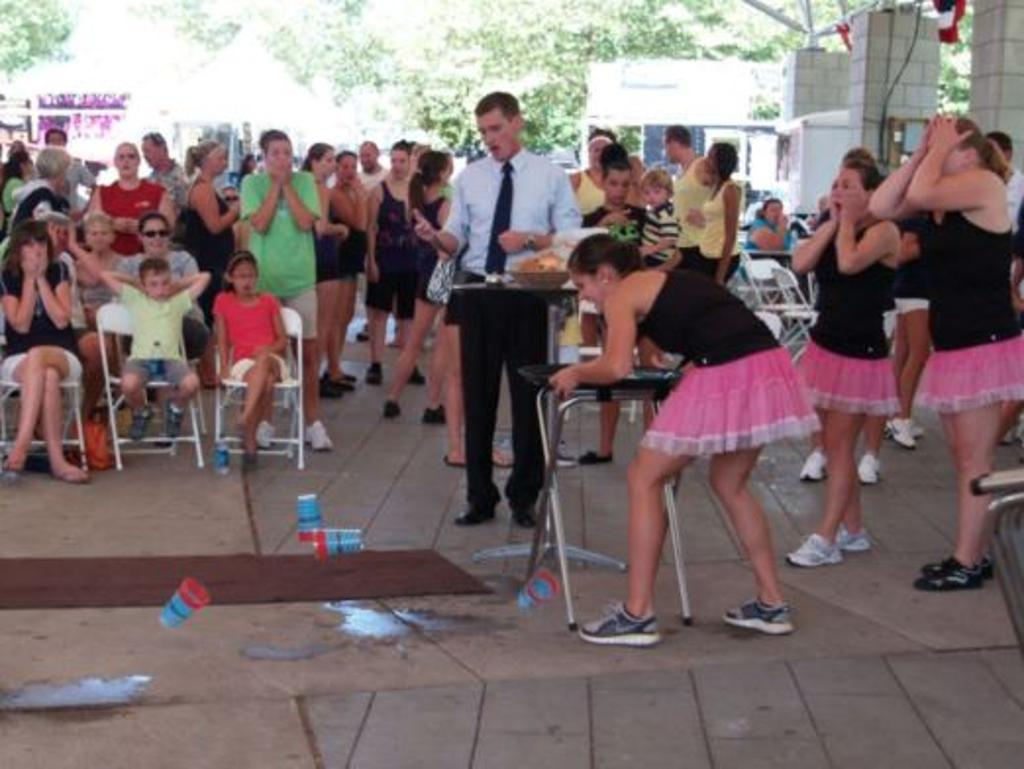face: (830, 177, 867, 222), (928, 137, 962, 183), (571, 268, 604, 315), (478, 115, 511, 161), (22, 241, 49, 272), (142, 225, 167, 254), (606, 174, 630, 202), (145, 275, 172, 299), (266, 146, 290, 173), (232, 268, 254, 295), (590, 143, 613, 167), (117, 151, 137, 177), (89, 226, 110, 250), (47, 225, 66, 251), (642, 187, 665, 206), (339, 160, 358, 182), (141, 144, 158, 166), (391, 155, 408, 177), (319, 153, 334, 176), (359, 150, 375, 169), (47, 136, 63, 154), (211, 152, 224, 174), (664, 138, 675, 162), (703, 149, 714, 173), (767, 206, 782, 223), (23, 157, 32, 173), (446, 158, 453, 173), (225, 188, 234, 196), (250, 160, 256, 169)
